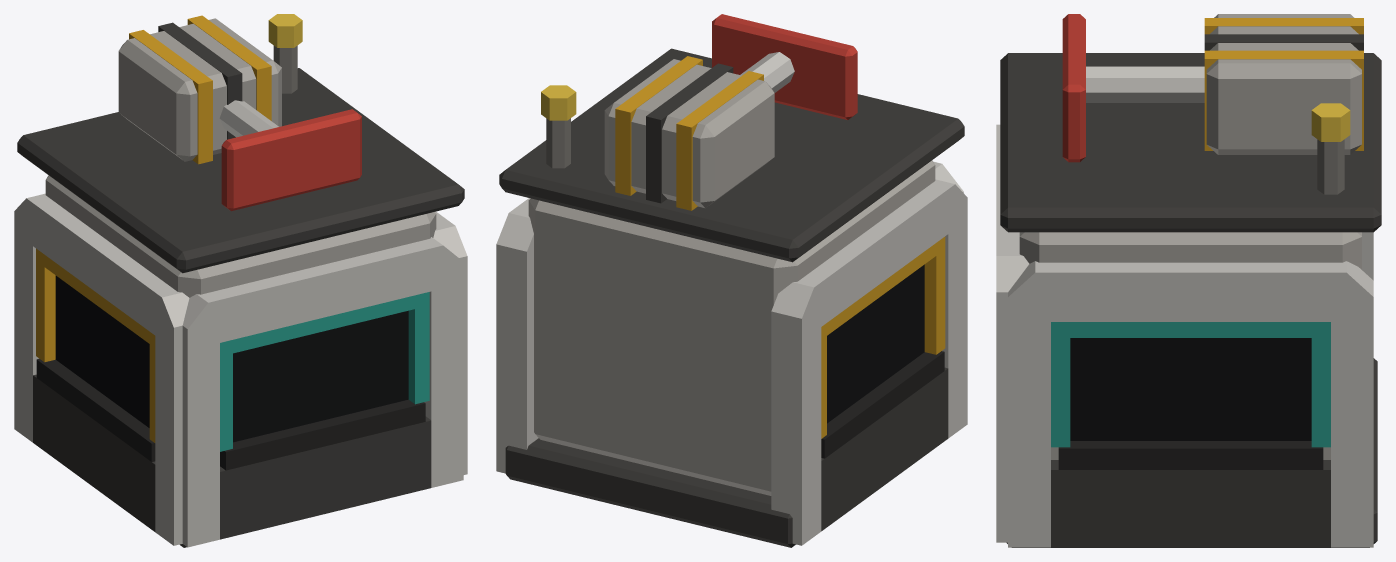
Rendered from pusher.fbx.
3 views of the same model, side by side, from view 1: azimuth 30°, elevation 25°; view 2: azimuth 150°, elevation 25°; view 3: azimuth 270°, elevation 25° (orthographic). The views are drawn at different scales.
Parts seen in each view (by area): view 1: pusher; view 2: pusher; view 3: pusher.
Boxes of the visible parts, x1,y1,x2,y2 form: pusher: (14,14,467,547); pusher: (496,14,967,547); pusher: (996,14,1381,547).
Size of the model in its own units: 3 by 3.69 by 2.97.
